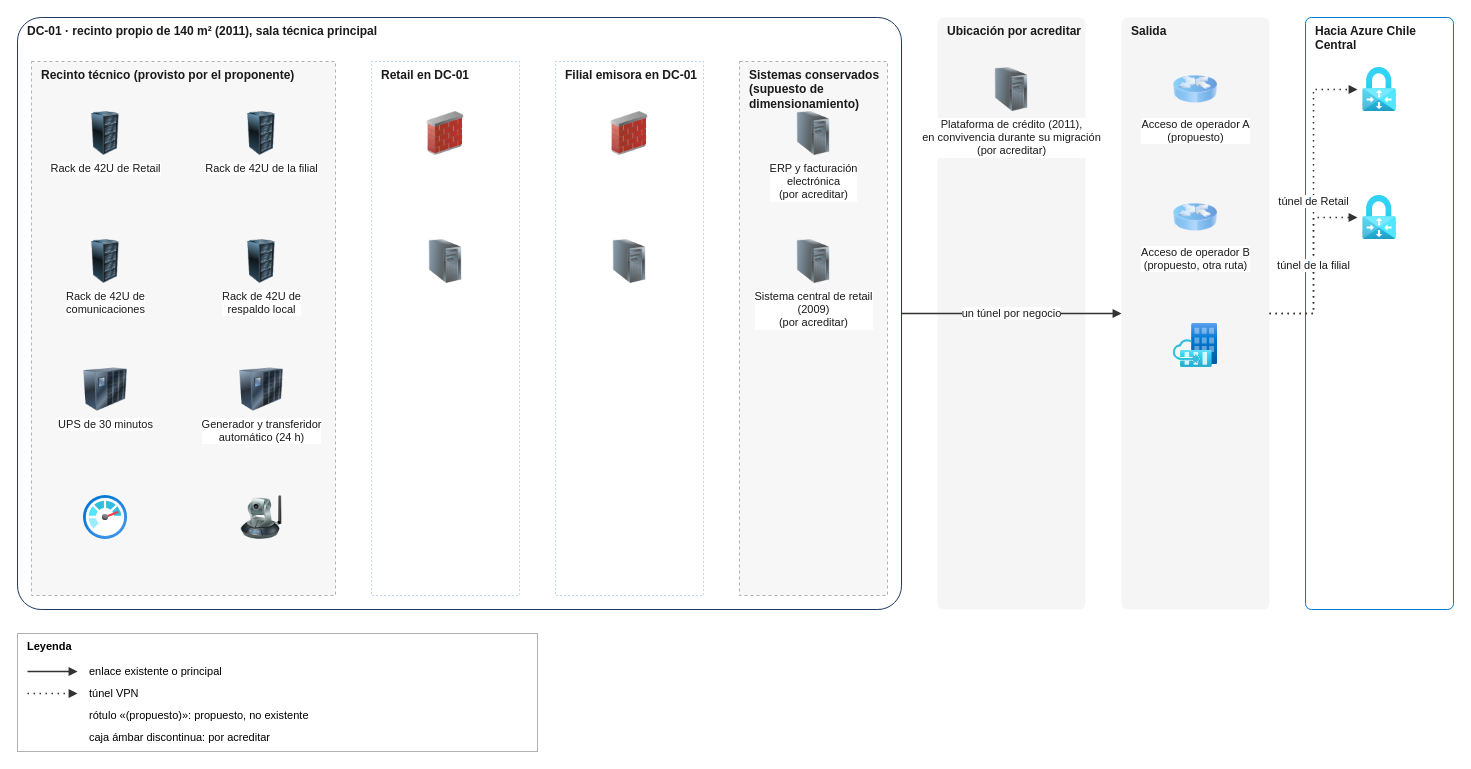
Image size: 1471x769. Some labels were removed from this diagram. The centre of each missing label's shape, as x and y in pixels:
"Climatización, sensores y detección y extinción de incendio" belongs at (105,517).
"Control de acceso y videovigilancia" belongs at (261,517).
"Nodos de integración de Data Factory ×2 (propuestos)" belongs at (445,261).
"Nodos de integración de Data Factory ×2 (transitorios) (propuesto)" belongs at (629,261).
"Red y firewall de la filial" belongs at (629,133).
"Red y firewall de Retail" belongs at (445,133).
"Sala de respaldo DC-02 (misma comuna)" belongs at (1195,345).
"VPN Gateway de la filial" belongs at (1379,217).
"VPN Gateway de Retail" belongs at (1379,89).
